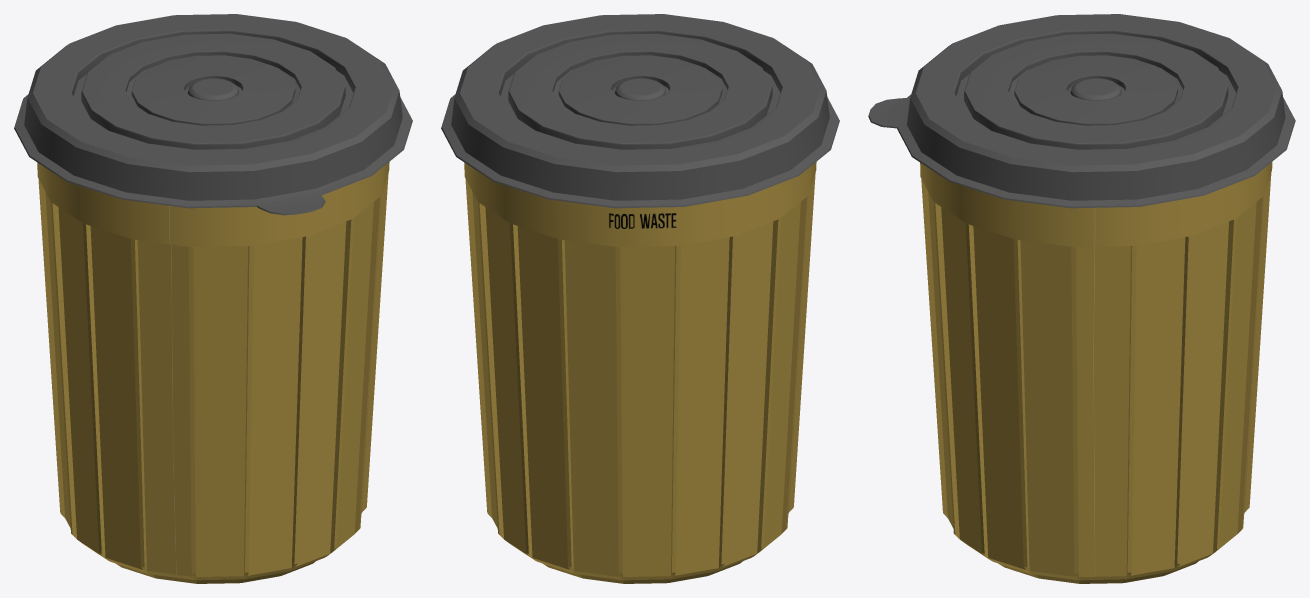
File: foodtrash.fbx
3 views of the same model, side by side, from view 1: azimuth 30°, elevation 25°; view 2: azimuth 150°, elevation 25°; view 3: azimuth 270°, elevation 25° (orthographic).
Visible parts, largest first — view 1: pasted__foodtrash2; view 2: pasted__foodtrash2; view 3: pasted__foodtrash2.
Boxes of the visible parts, x1,y1,x2,y2 form: pasted__foodtrash2: [14, 14, 412, 583]; pasted__foodtrash2: [441, 14, 839, 583]; pasted__foodtrash2: [868, 14, 1295, 583].
Bounding box in the file's own units: 0.0129 × 0.016 × 0.0139.
Materials: 2 (1 with a texture image).
